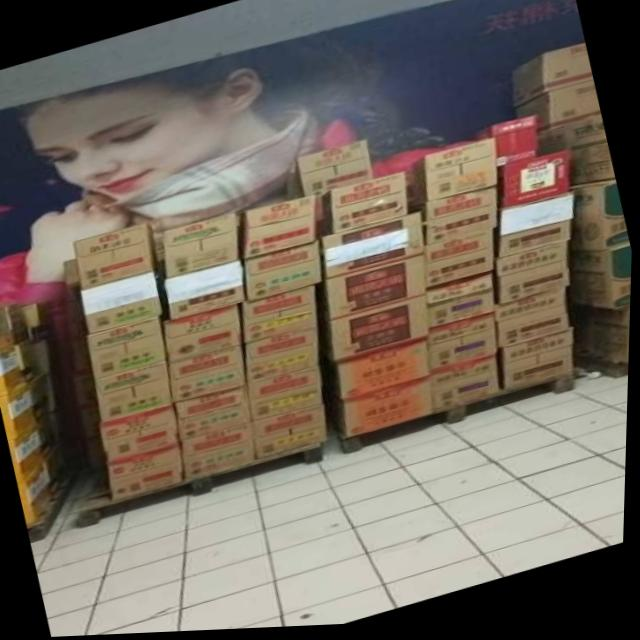box: (322, 215, 424, 282), (328, 258, 427, 325), (330, 298, 429, 365), (336, 379, 435, 439), (337, 340, 431, 403), (413, 141, 498, 205), (75, 226, 158, 289), (323, 175, 406, 236), (82, 271, 163, 333), (164, 214, 240, 279), (499, 197, 575, 261), (513, 49, 590, 112), (88, 316, 165, 379), (244, 241, 322, 303), (168, 261, 246, 321), (516, 85, 602, 139), (246, 196, 317, 260), (502, 333, 577, 393), (103, 407, 180, 465), (99, 363, 174, 422), (182, 422, 257, 481), (499, 245, 569, 308), (112, 443, 187, 501), (172, 345, 246, 403), (168, 305, 241, 363), (299, 142, 372, 199), (245, 287, 318, 344), (250, 369, 327, 423), (248, 327, 318, 386), (570, 187, 630, 255), (500, 292, 569, 351), (429, 273, 499, 331), (429, 317, 501, 373), (427, 232, 496, 290), (569, 252, 633, 314), (503, 154, 571, 212), (179, 388, 252, 442), (427, 193, 496, 248), (256, 407, 327, 460), (434, 357, 500, 414), (475, 118, 538, 171), (576, 311, 632, 369), (21, 460, 56, 524), (571, 147, 616, 191), (10, 425, 43, 482), (5, 383, 36, 440), (0, 344, 25, 397), (40, 443, 70, 485), (36, 416, 61, 460), (14, 340, 40, 382), (32, 373, 52, 425), (11, 304, 32, 344), (0, 301, 16, 349)
